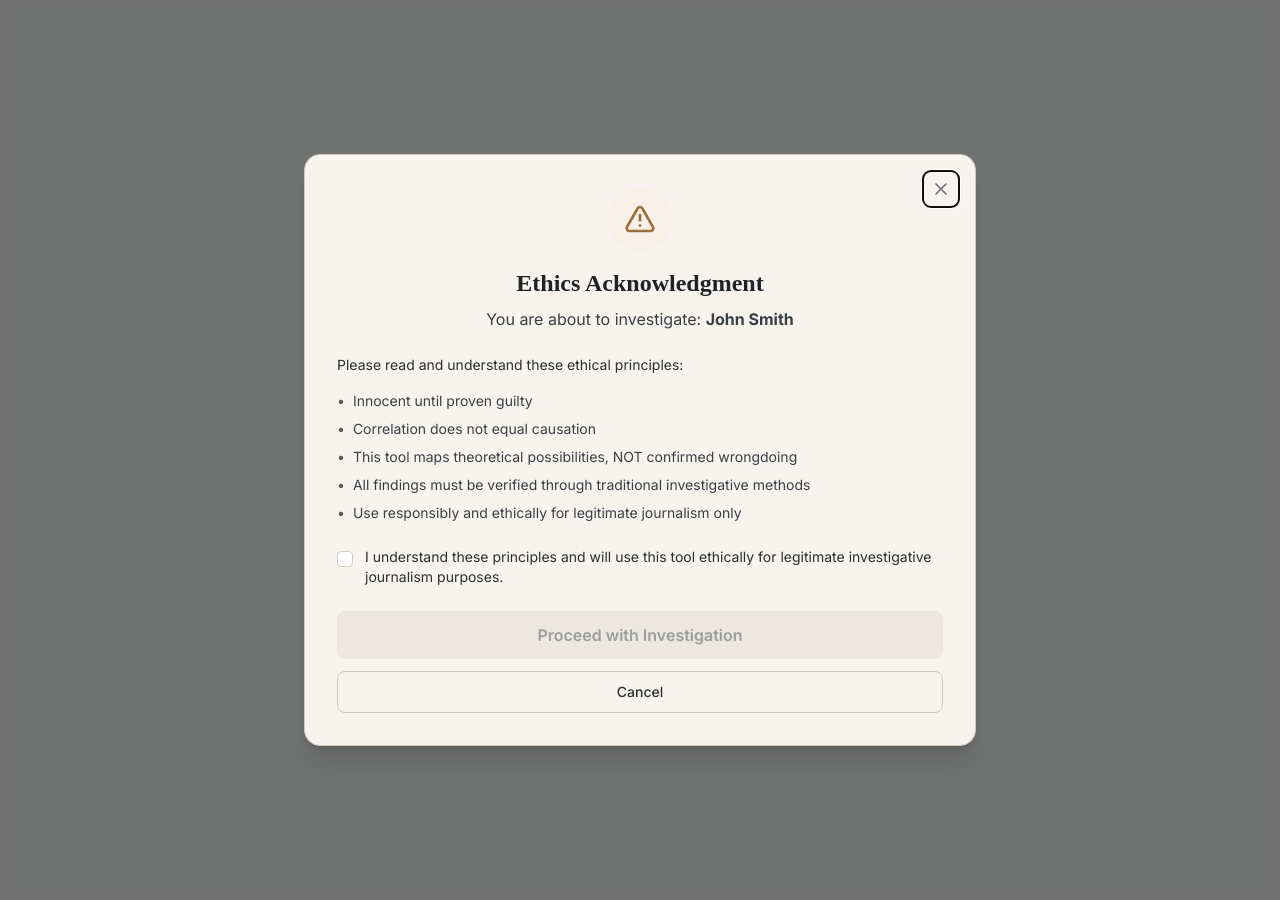
Scenario: EthicsModal › Checkbox Enables Proceed Button › should enable proceed button when checkbox is checked
Click the checkbox: (345, 559) [337,551,353,567]
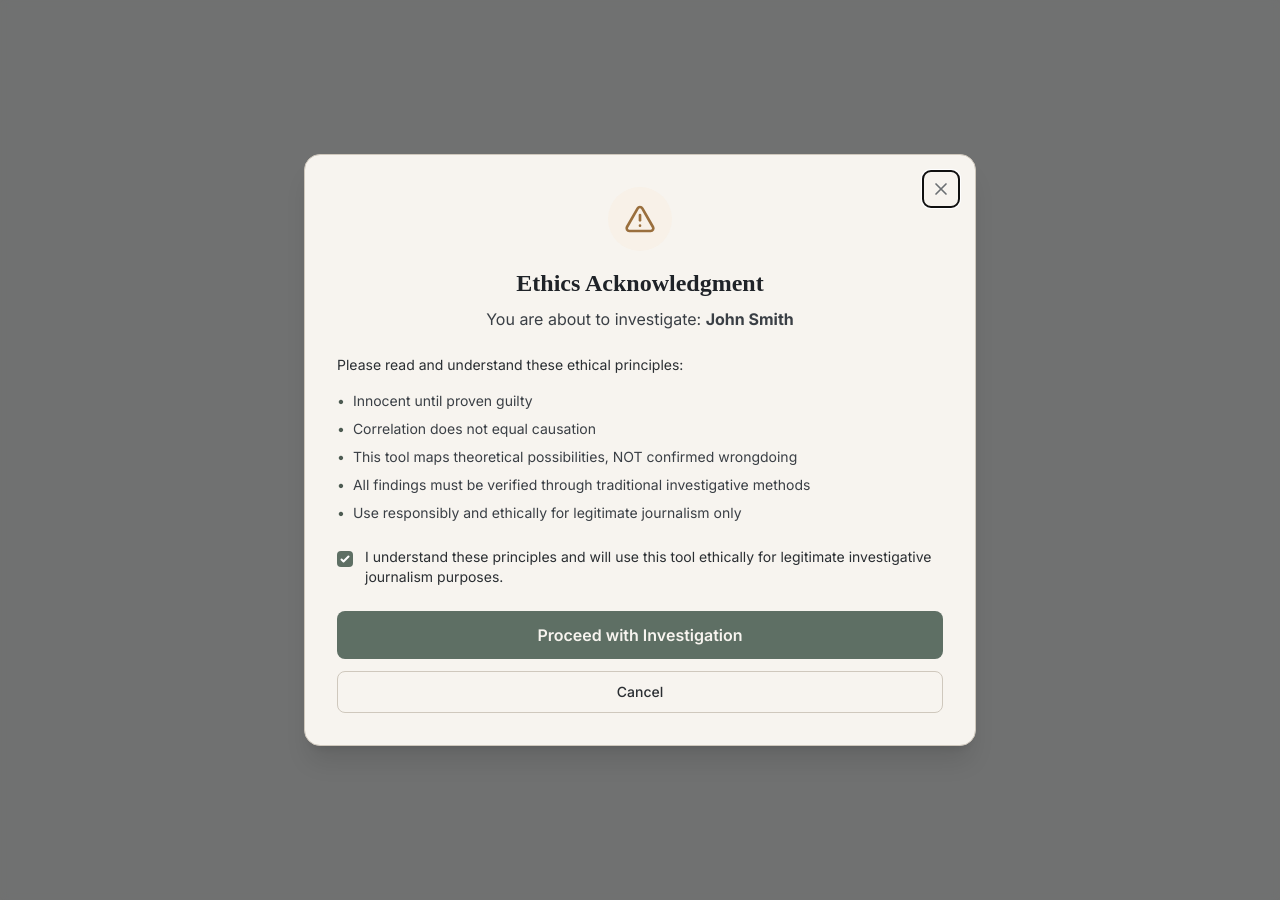
expect the button "Proceed with Investigation" is enabled: met, box [337,611,943,659]
